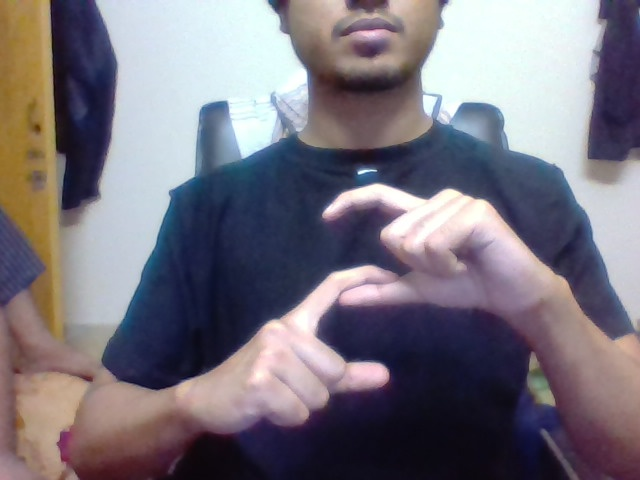S: (308, 183, 416, 374)
